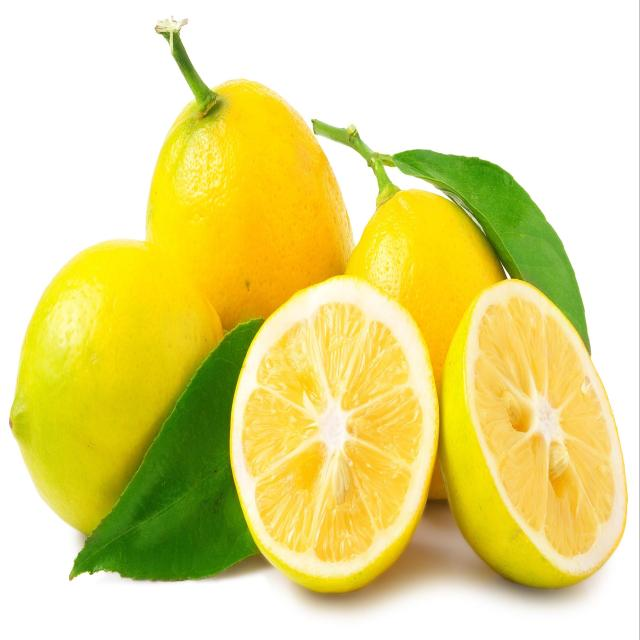lemon: (226, 268, 444, 602)
